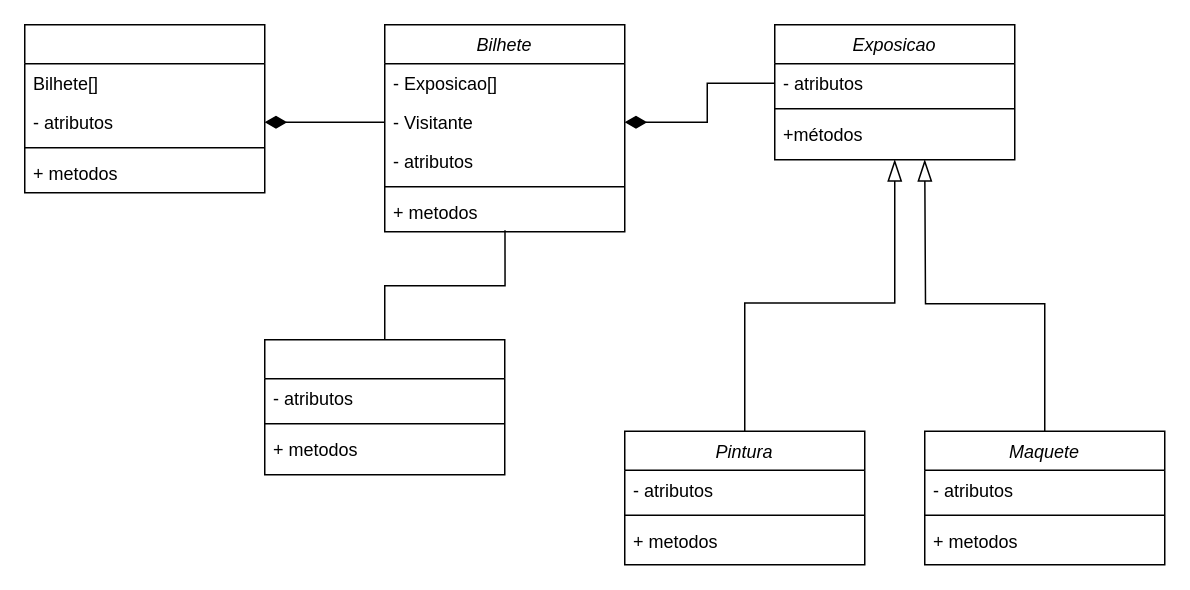
The diagram is 1190 pixels wide and 590 high, and some of its shapes have lost their labels. The box of each missing label's shape, as (x1, y1, x2, y2) in pixels:
MuseuCE: (23, 23, 265, 193)
Visitante: (263, 338, 505, 475)
